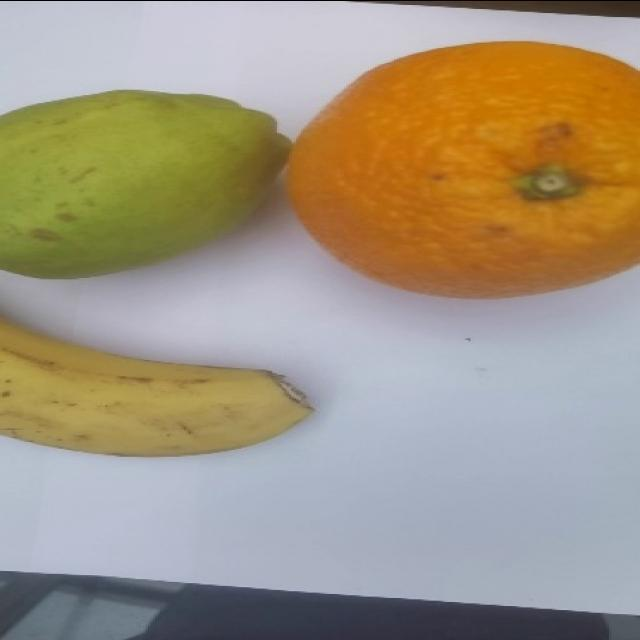Banana: (0, 313, 315, 457)
Orange: (286, 39, 639, 299)
